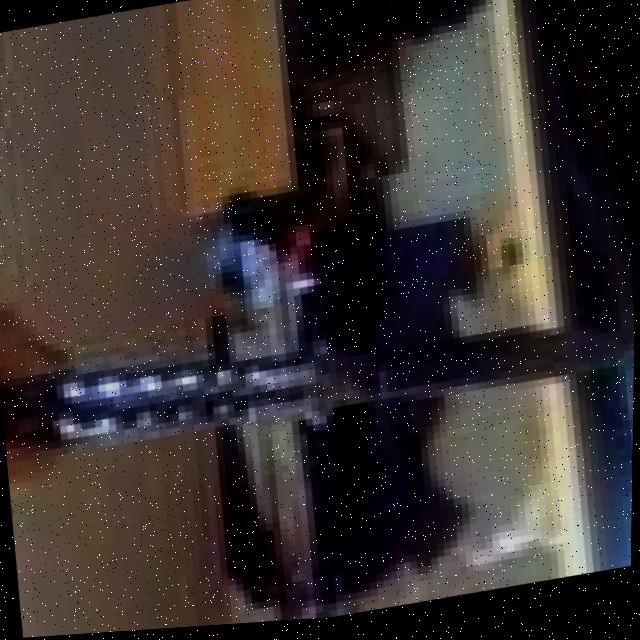knife: (0, 280, 636, 492)
